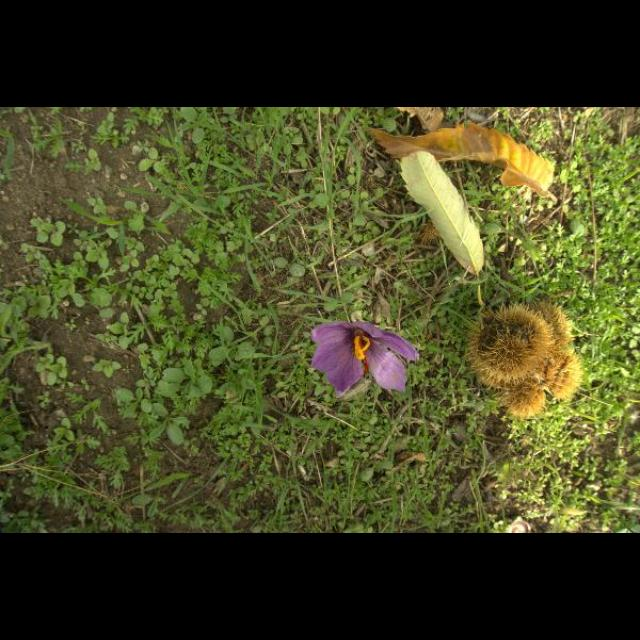flower: (311, 321, 421, 399)
